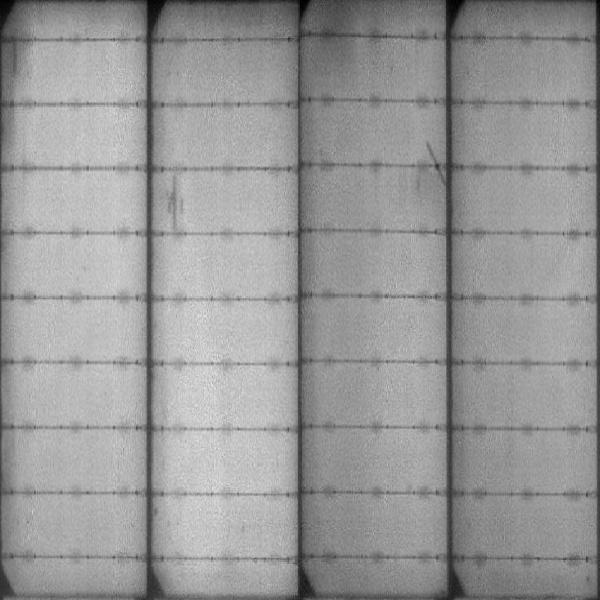scratch: (164, 174, 187, 225), (427, 141, 446, 188)
